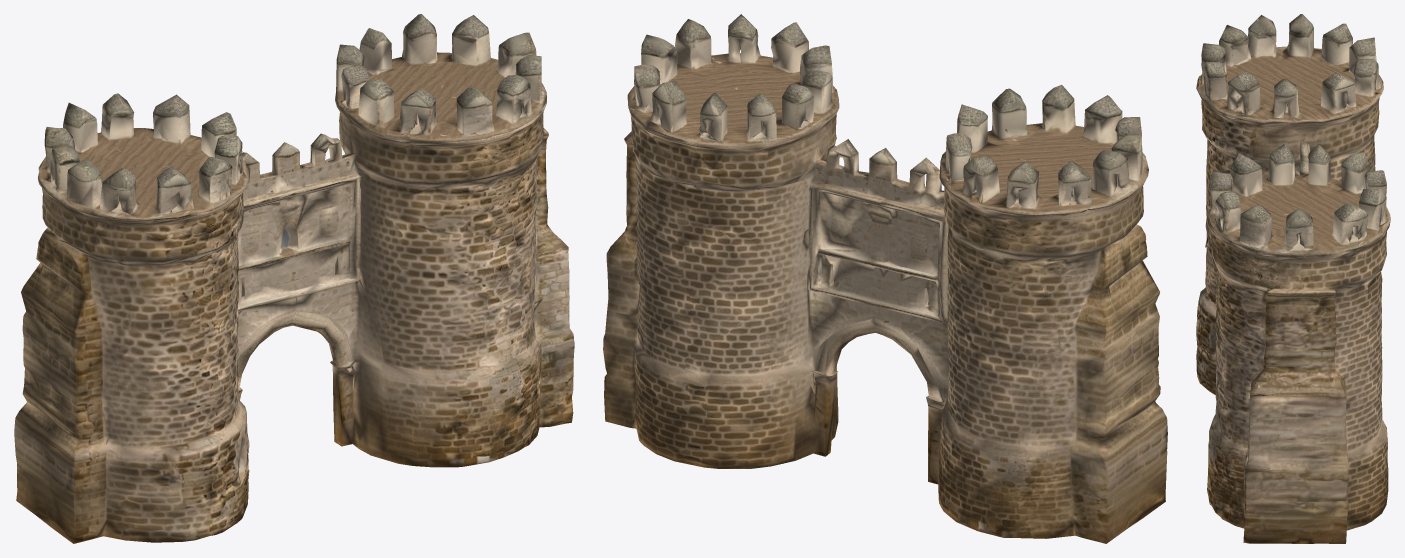
File: stone_gate.glb
3 renders of one model, left to right at view 1: azimuth 30°, elevation 25°; view 2: azimuth 150°, elevation 25°; view 3: azimuth 270°, elevation 25°, orthographic. The views are drawn at different scales.
Visible parts, largest first — view 1: stone_gate; view 2: stone_gate; view 3: stone_gate.
Boxes of the visible parts, box(x1,y1,x2,y2) form: stone_gate: box(14, 14, 574, 543); stone_gate: box(603, 14, 1167, 543); stone_gate: box(1196, 14, 1390, 543).
Bounding box in the file's own units: 1.9 × 1.33 × 0.7262.
1 material, 1 textured.
